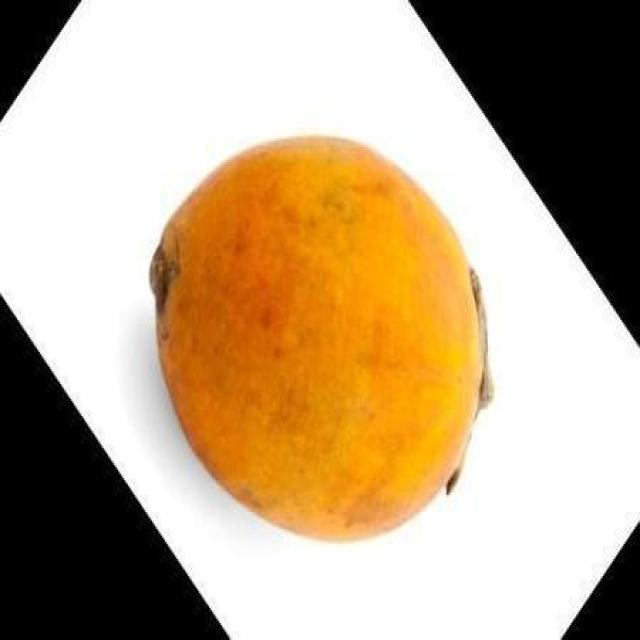good: (148, 134, 485, 546)
